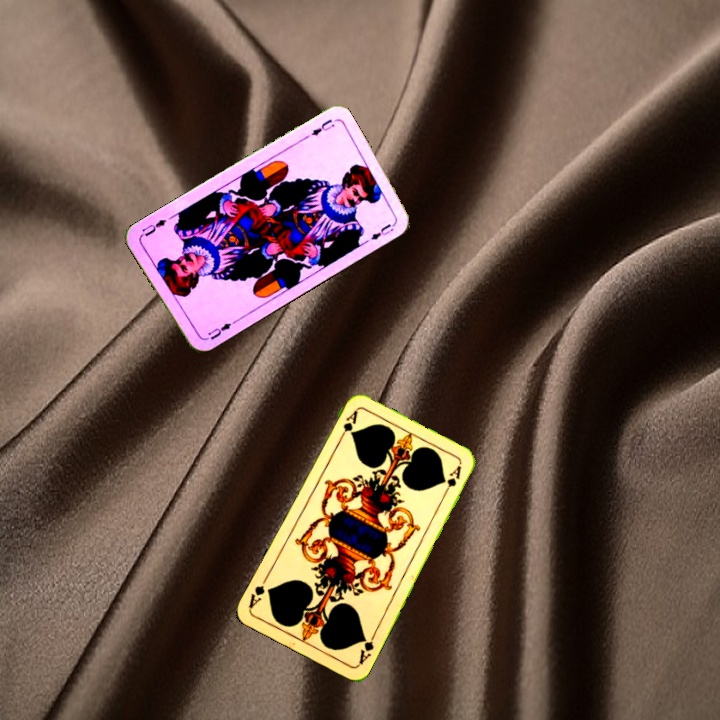EU: (300, 115, 337, 142), (204, 319, 234, 342)
GA: (335, 406, 360, 444), (355, 629, 378, 667)
